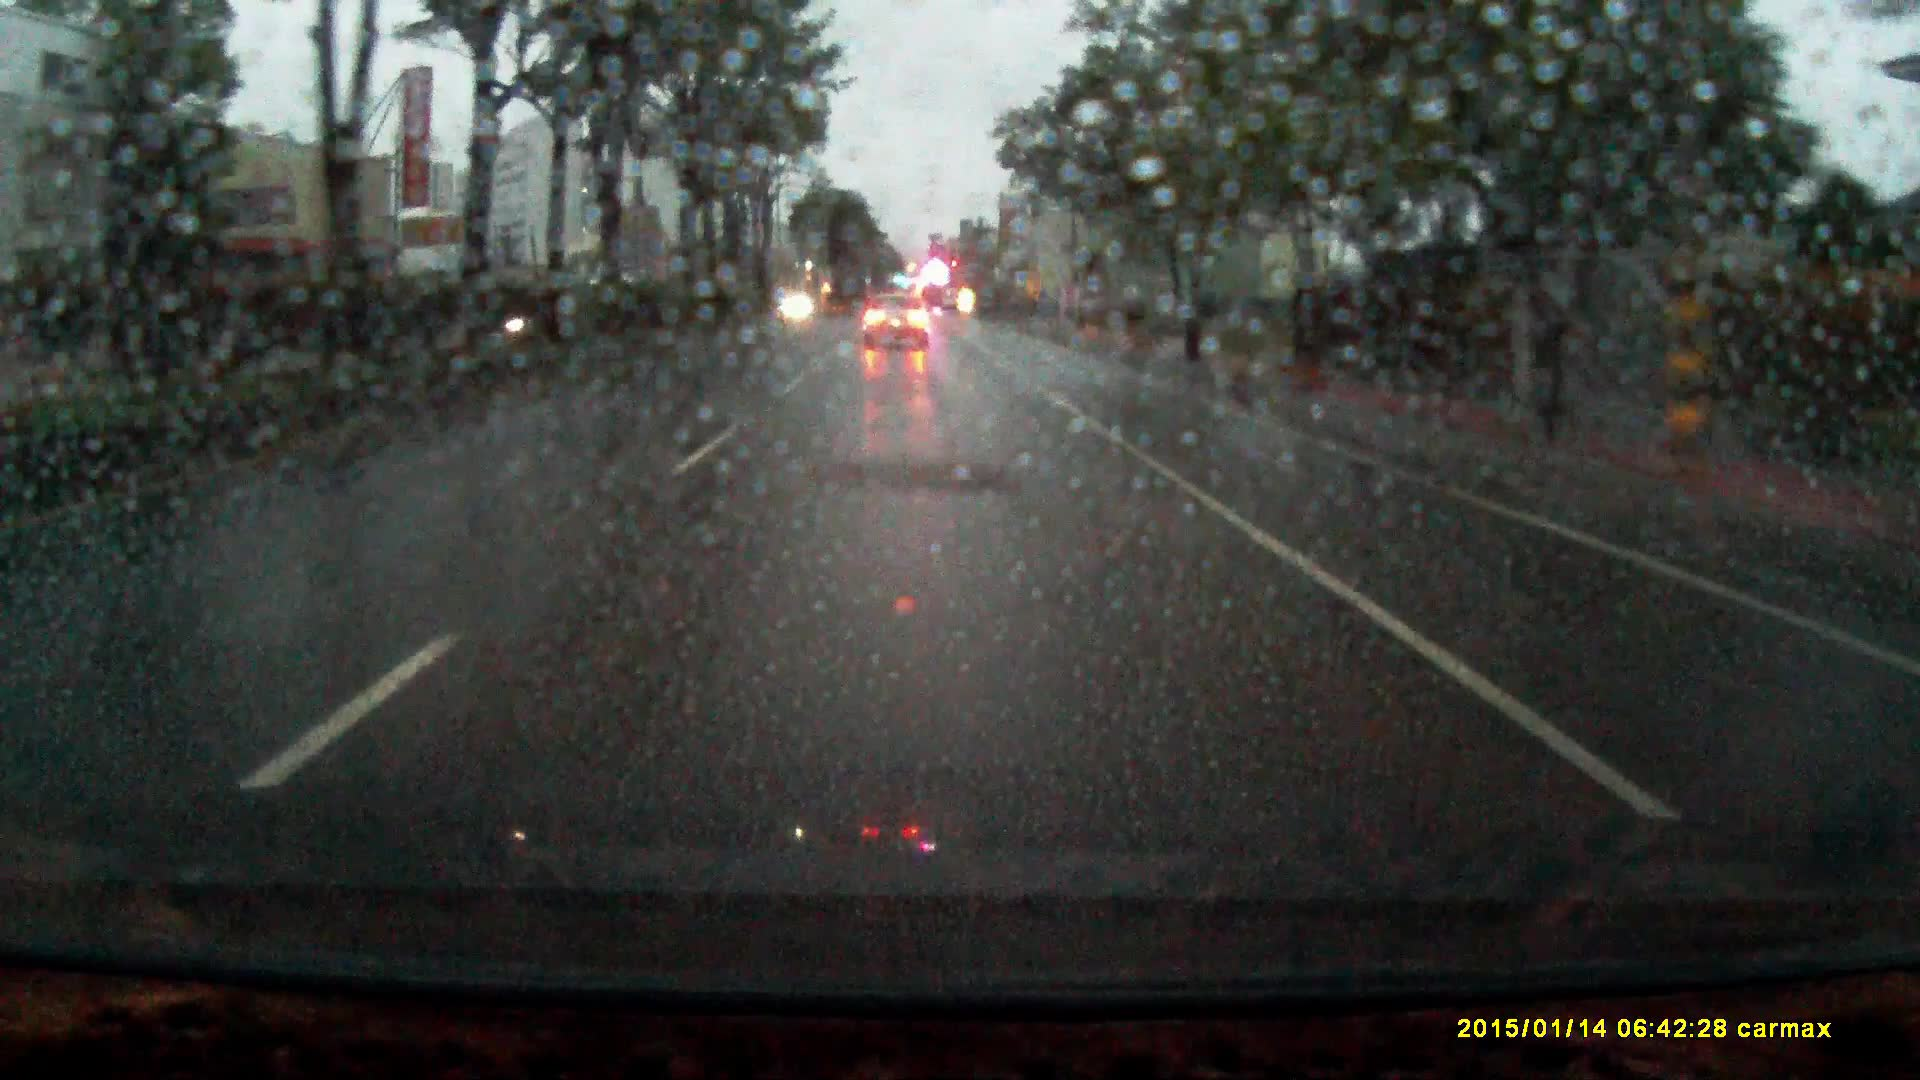vehicle: (862, 295, 932, 353)
